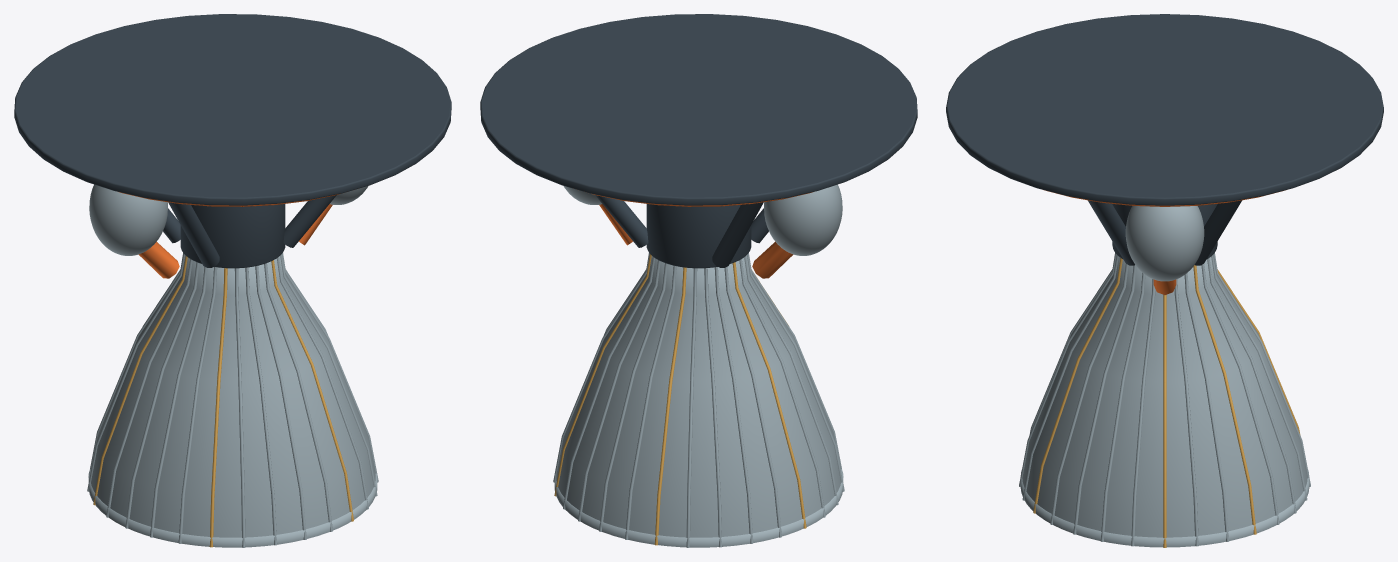
File: engineSeaLarge.glb
The picture shows the model from 3 angles, left to right: view 1: azimuth 30°, elevation 25°; view 2: azimuth 150°, elevation 25°; view 3: azimuth 270°, elevation 25°; orthographic projection.
Visible parts, largest first — view 1: EngineMount, GimbalNozzle; view 2: EngineMount, GimbalNozzle; view 3: EngineMount, GimbalNozzle.
Boxes of the visible parts, x1=… form: EngineMount: x1=14, y1=14, x2=451, y2=278; GimbalNozzle: x1=87, y1=253, x2=378, y2=547; EngineMount: x1=480, y1=14, x2=917, y2=278; GimbalNozzle: x1=553, y1=253, x2=844, y2=547; EngineMount: x1=946, y1=14, x2=1383, y2=294; GimbalNozzle: x1=1019, y1=253, x2=1310, y2=547.
Bounding box in the file's own units: 2.5 × 2.4 × 2.5.
